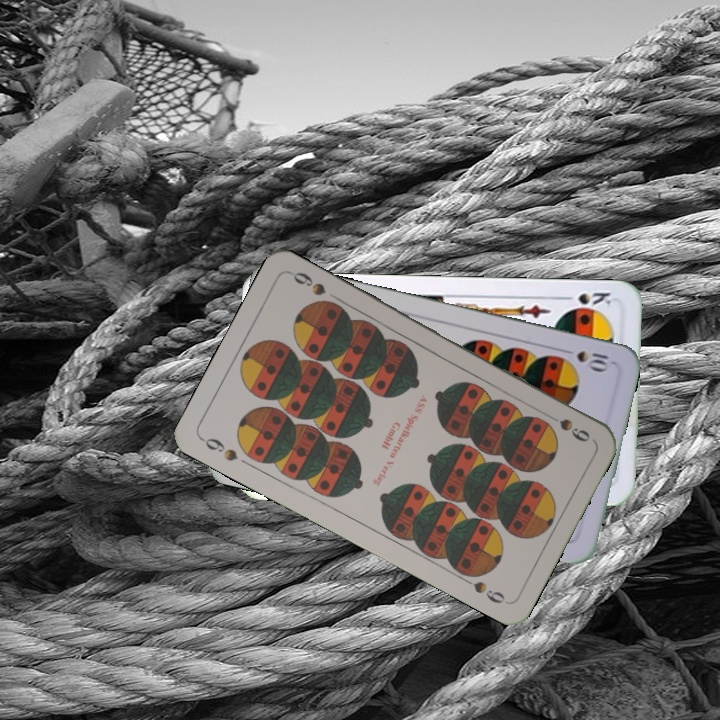S10: (557, 344, 611, 373)
S9: (540, 408, 593, 445), (197, 433, 240, 464)
SK: (557, 288, 614, 313)
